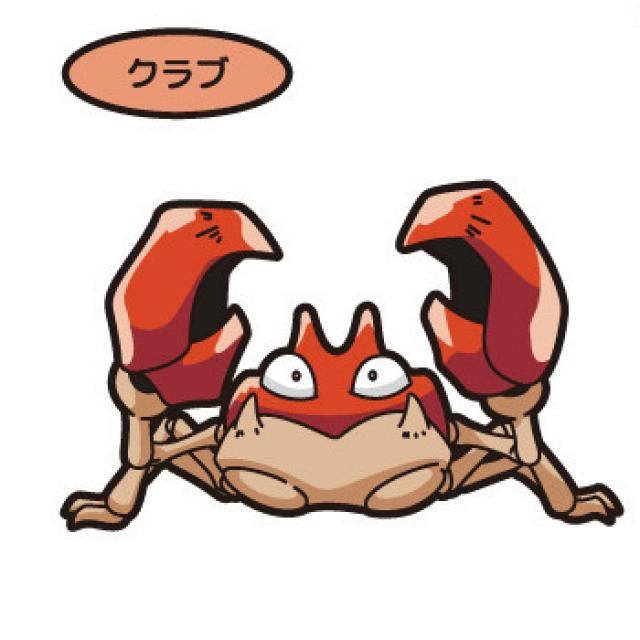Krabby: (66, 175, 638, 568)
